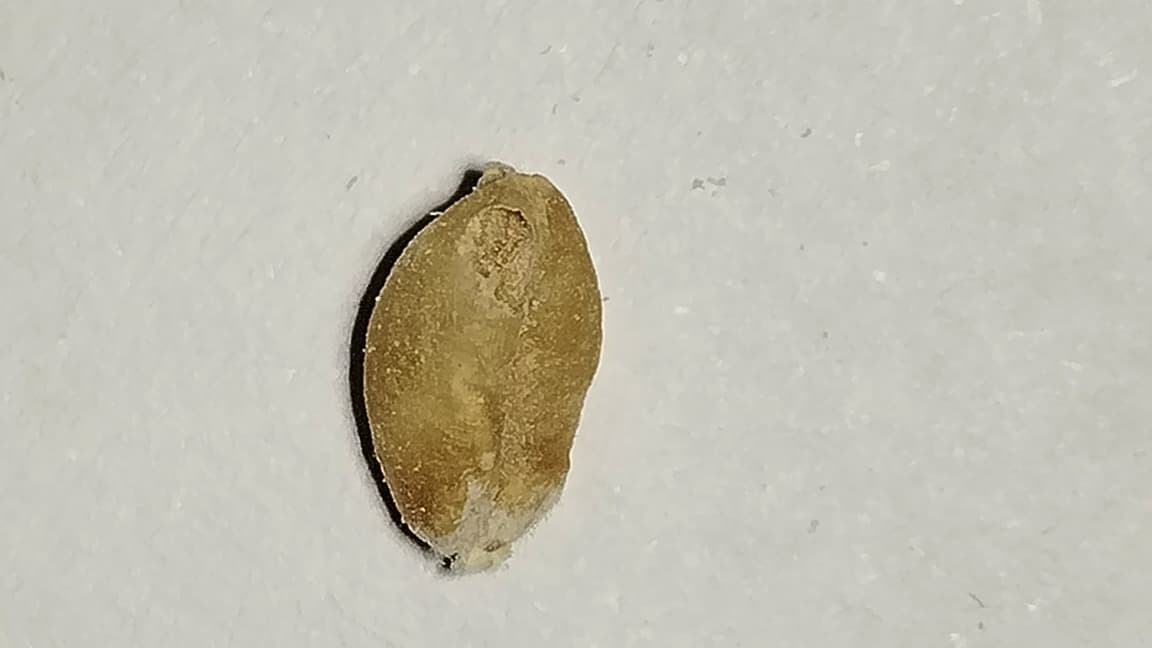damage: (363, 162, 602, 574)
insectdamage: (454, 202, 552, 312)
molddamage: (413, 471, 566, 578)
